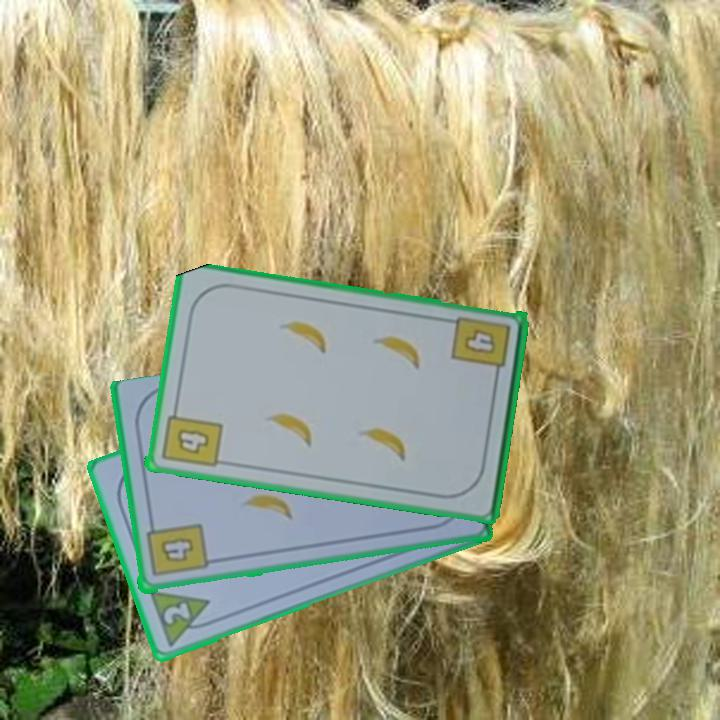2p: (159, 599, 193, 628)
4b: (157, 401, 224, 471), (448, 313, 513, 383), (142, 518, 209, 580)
